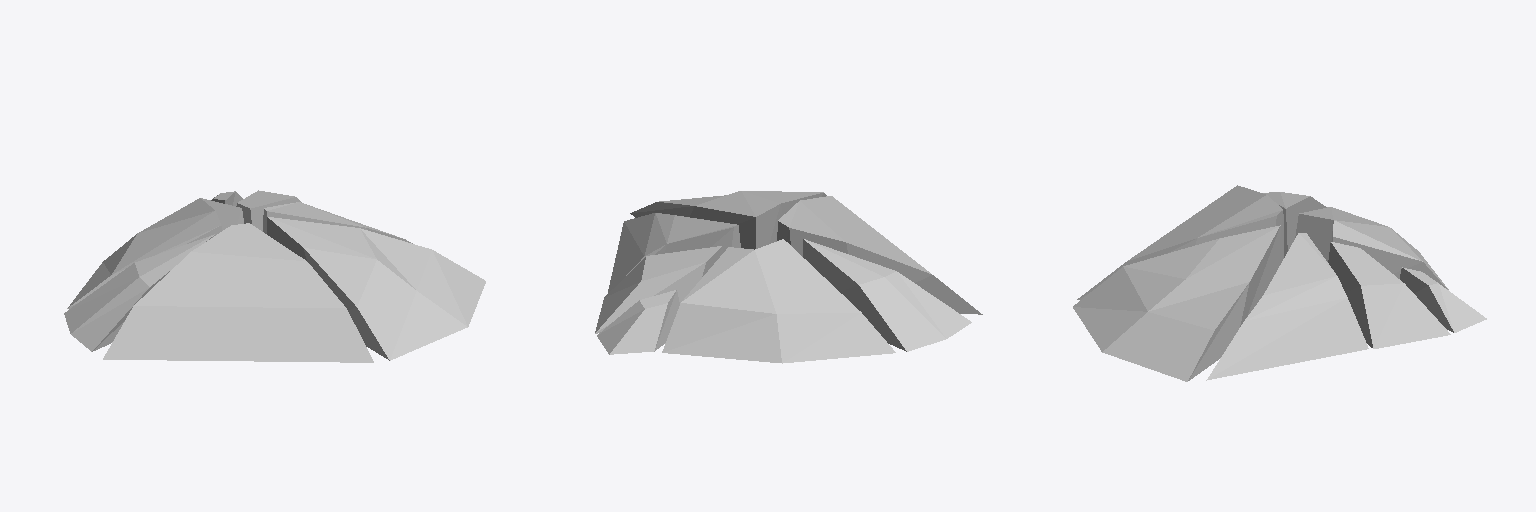
The model's file is GyserBase.obj.
3 views of the same model, side by side, from view 1: azimuth 30°, elevation 25°; view 2: azimuth 150°, elevation 25°; view 3: azimuth 270°, elevation 25° (orthographic).
Bounding box in the file's own units: 67.72 × 12.74 × 66.05.